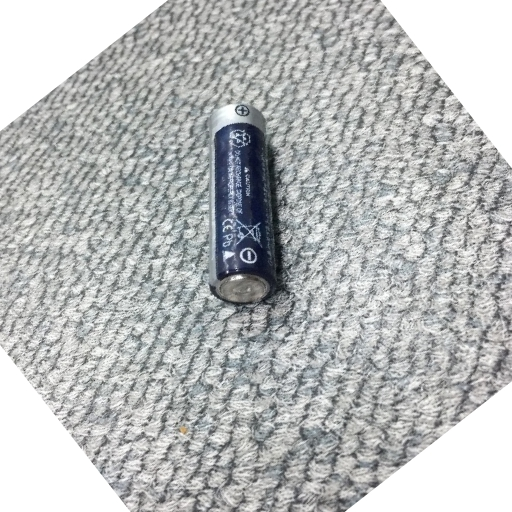Battery_0: (199, 101, 282, 311)
